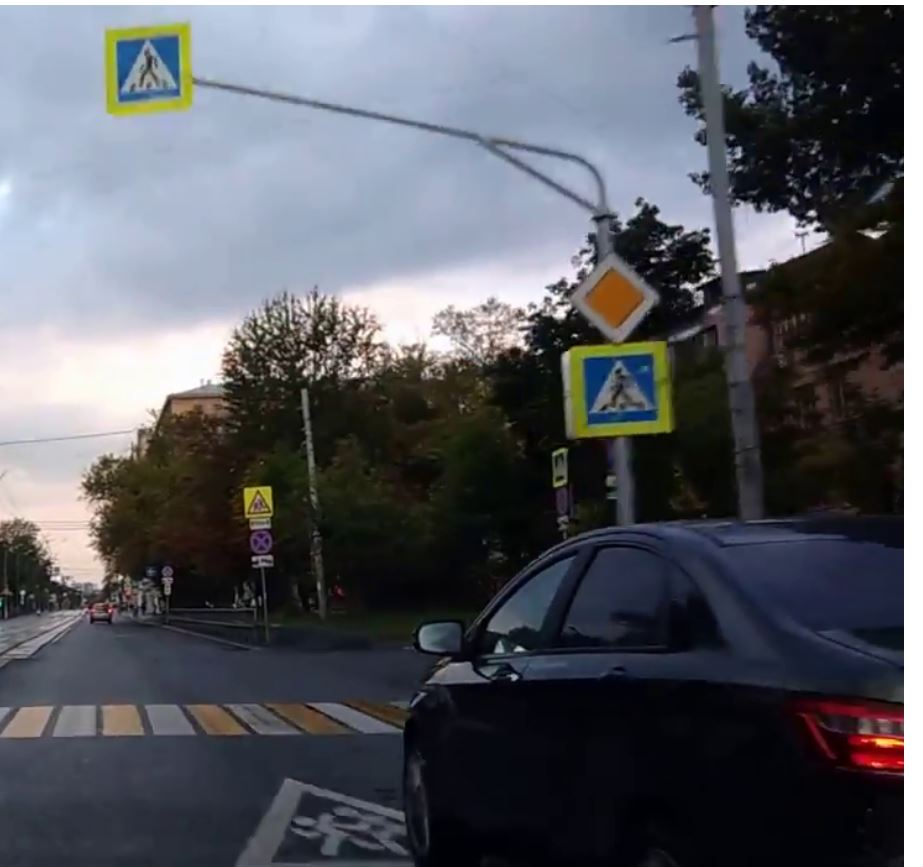Yaya Gecidi: (585, 358, 654, 423), (117, 42, 178, 97)
